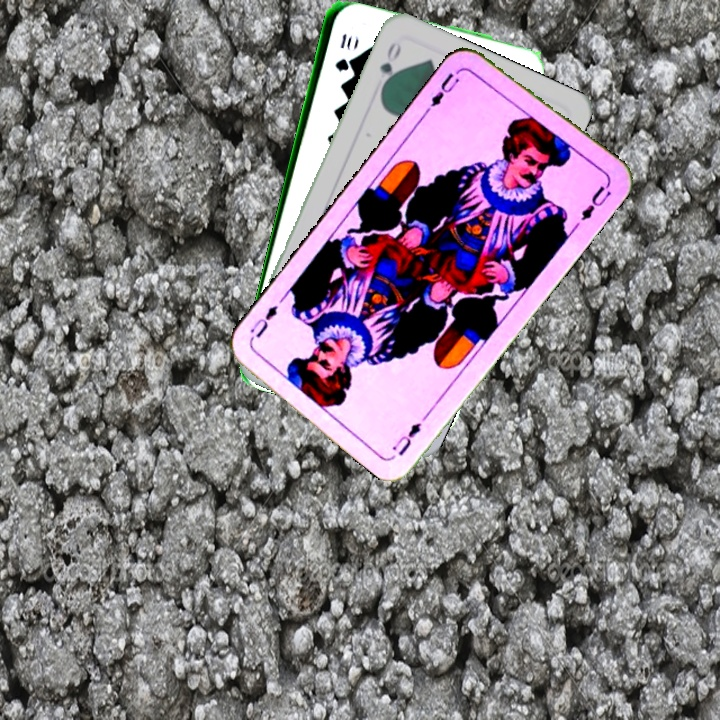EU: (426, 65, 464, 110), (387, 418, 424, 459)
G10: (330, 30, 354, 74)
GO: (375, 38, 404, 94)
